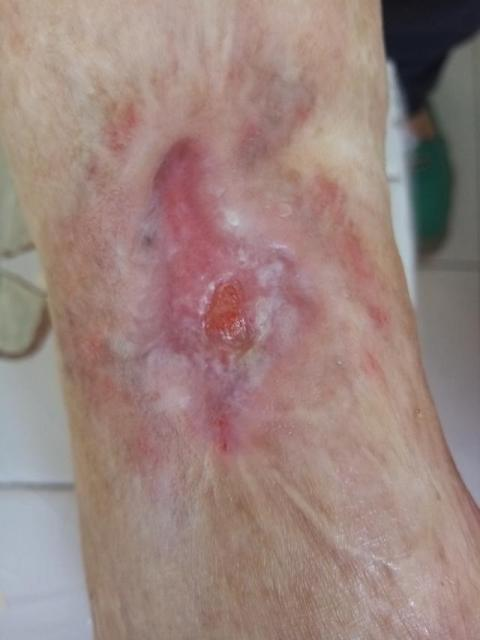wound: (135, 136, 309, 458)
